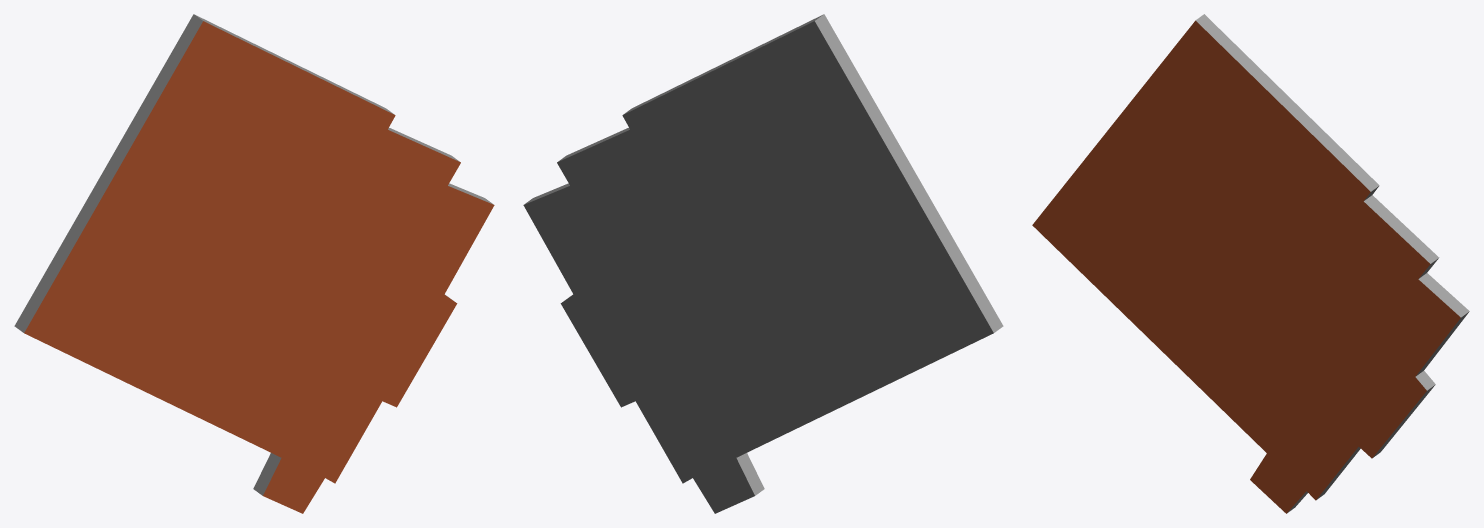
File: construction_0148_assumed_A_Grande_construcao_h6m.obj
The picture shows the model from 3 angles, left to right: view 1: azimuth 30°, elevation 25°; view 2: azimuth 150°, elevation 25°; view 3: azimuth 330°, elevation 25°; orthographic projection. The views are drawn at different scales.
Visible parts, largest first — view 1: construction_0148_assumed_A_Grande_construcao; view 2: construction_0148_assumed_A_Grande_construcao; view 3: construction_0148_assumed_A_Grande_construcao.
Part boxes in pixels (x1=…): construction_0148_assumed_A_Grande_construcao: x1=14, y1=14, x2=494, y2=513; construction_0148_assumed_A_Grande_construcao: x1=523, y1=14, x2=1003, y2=513; construction_0148_assumed_A_Grande_construcao: x1=1032, y1=14, x2=1469, y2=513.
Bounding box in the file's own units: 169 × 177 × 6.
